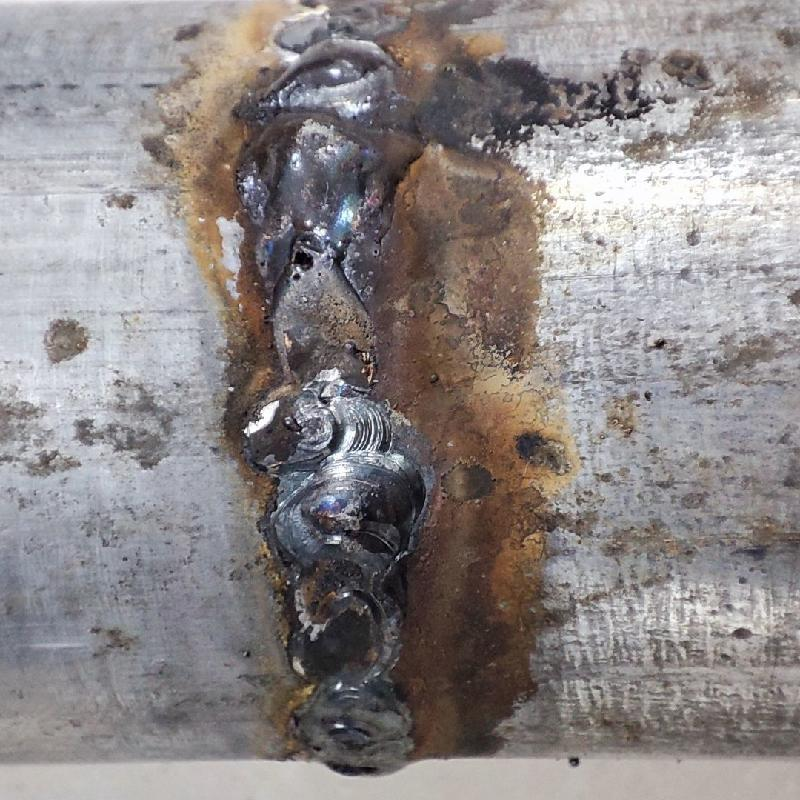Not_fully_soldered: (243, 235, 392, 450)
Surface_pores: (279, 239, 333, 293)
Weld: (225, 35, 412, 266)
